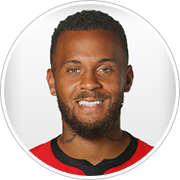smile: (76, 97, 105, 109)
